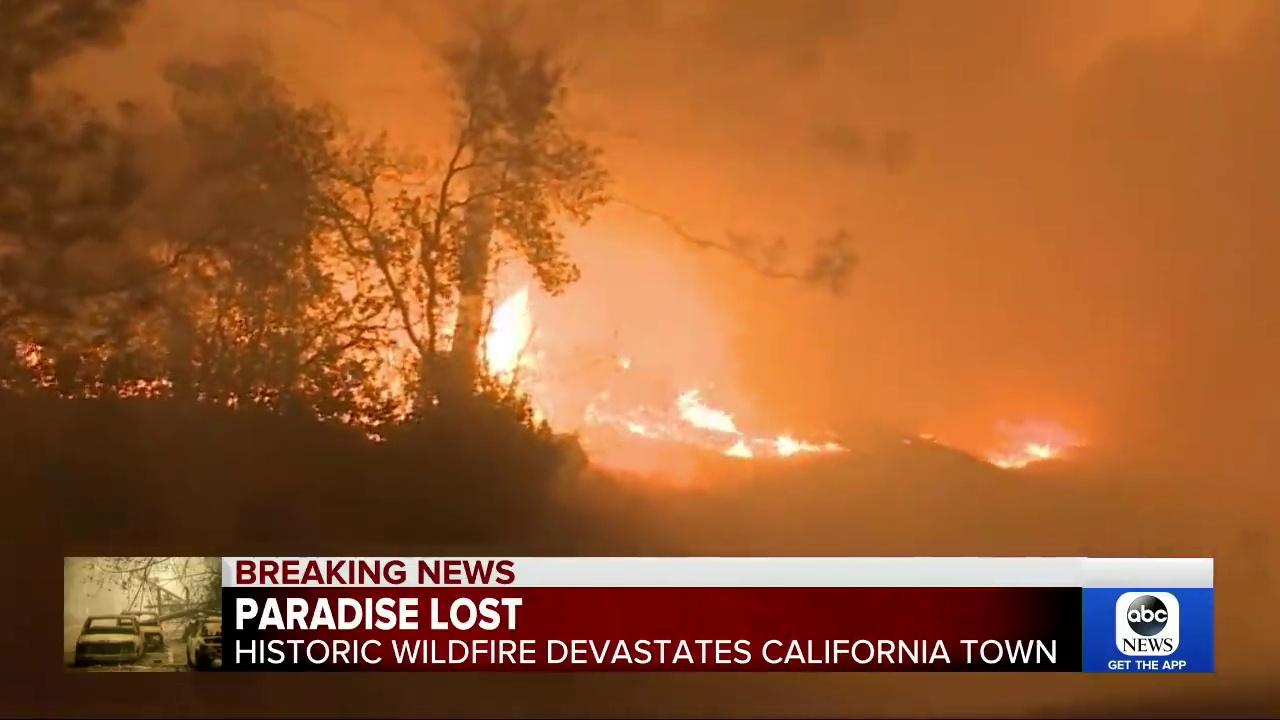fire: (492, 292, 534, 388), (672, 386, 738, 434), (776, 434, 816, 452)
